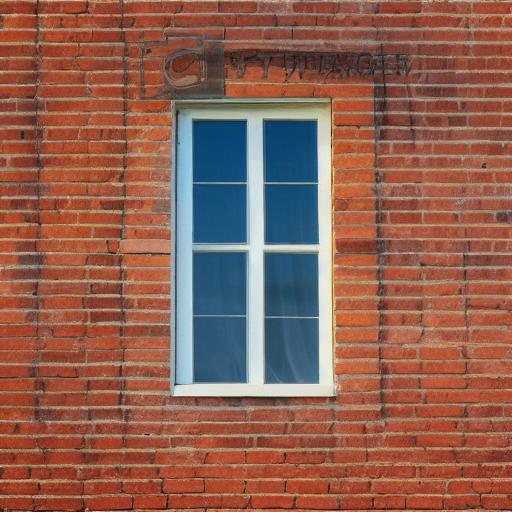Window: (169, 96, 340, 400)
